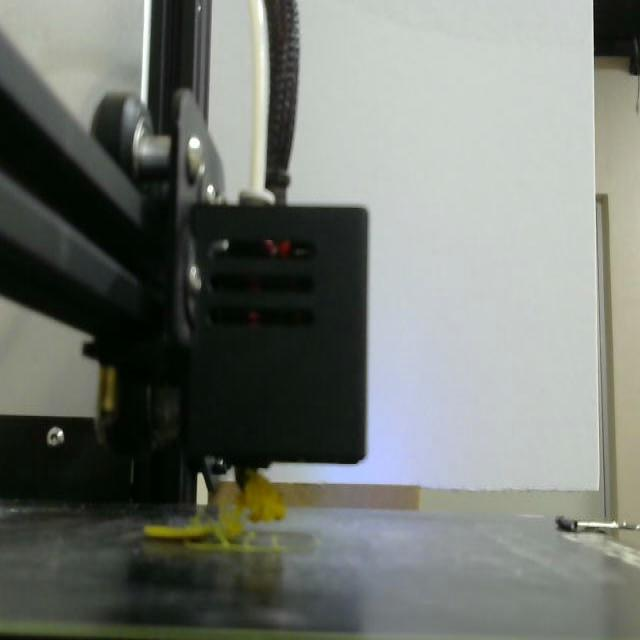spaghetti: (144, 468, 286, 552)
